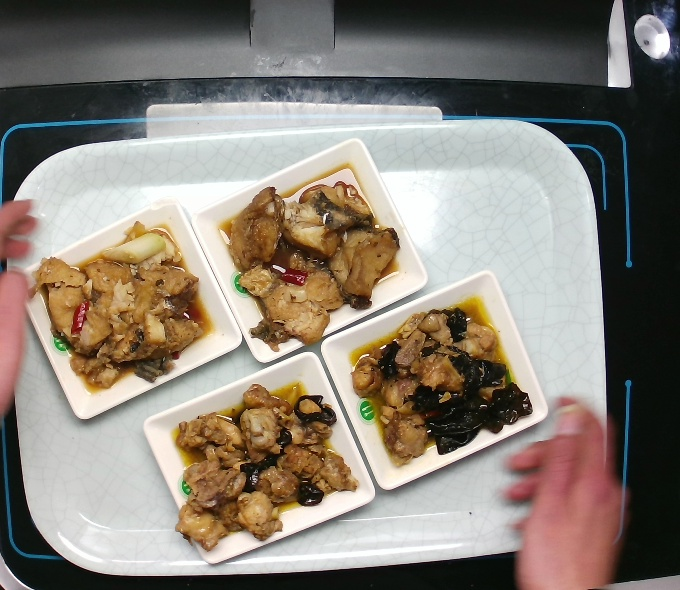wcq-MuErRouKuai: (171, 380, 359, 556), (346, 301, 539, 469)
wcq-YuKuai: (26, 216, 208, 396), (221, 176, 404, 353)
